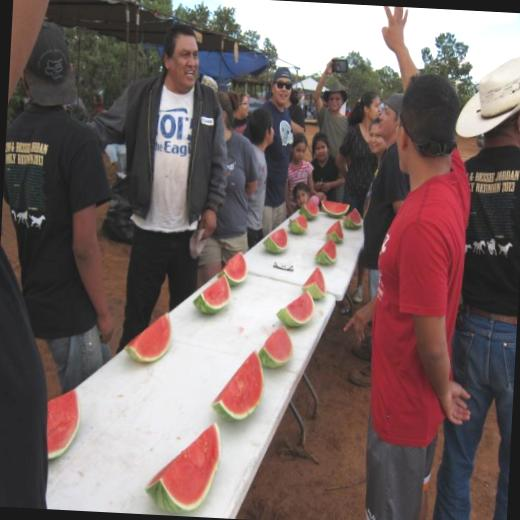Cherry: (143, 418, 225, 517), (213, 350, 268, 423), (42, 387, 82, 459), (124, 310, 174, 364), (192, 272, 232, 314), (258, 324, 294, 369), (276, 290, 314, 328), (216, 251, 248, 286), (301, 266, 326, 301), (262, 226, 289, 255), (316, 236, 336, 266), (322, 200, 350, 218), (326, 219, 346, 242), (344, 207, 361, 231), (288, 214, 308, 233), (300, 201, 318, 221)
